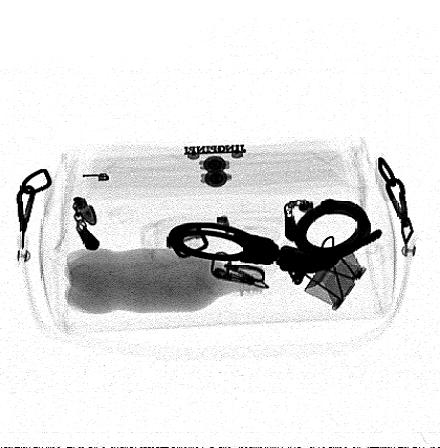HandCuffs: (166, 198, 382, 287)
